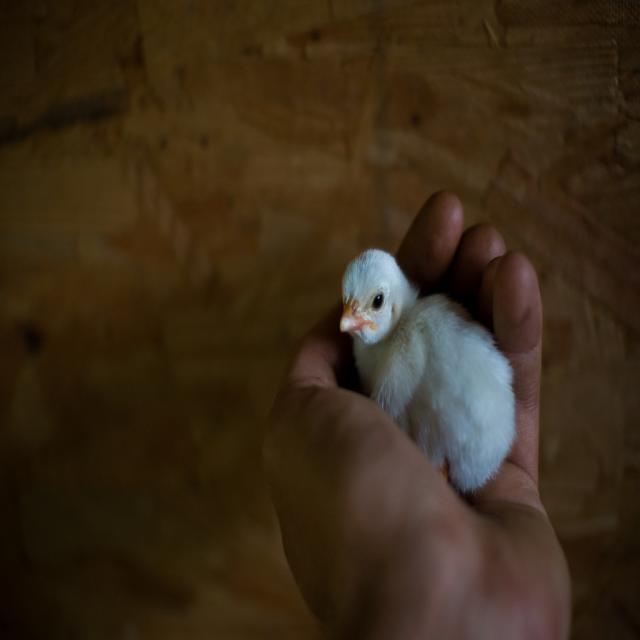Chicken: (340, 247, 516, 492)
